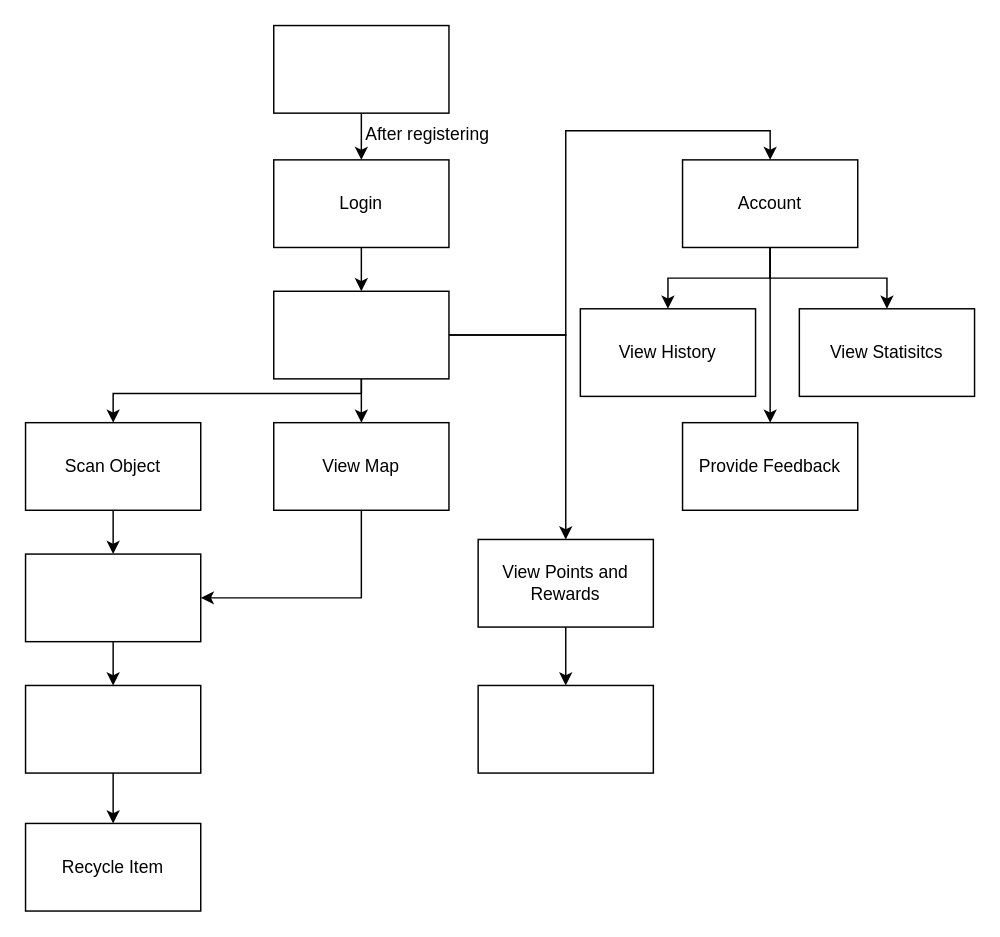
Image size: 1000x937. Some labels were removed from this diagram. Here are the shapes that lost their labels. From the top down, the centre of each, then its label:
point (360, 68): Register Account
point (360, 334): Homepage
point (112, 597): Start Trip
point (112, 728): Cancel Trip
point (565, 728): Redeem rewards
